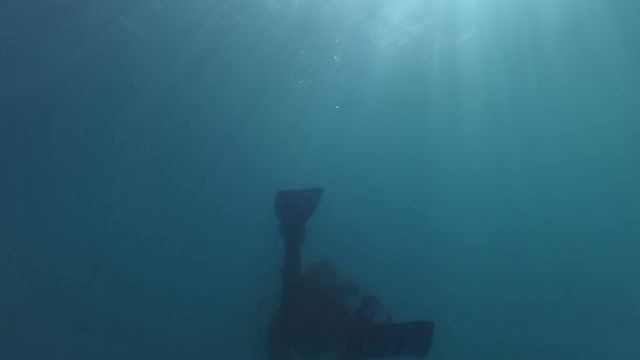Diver: (245, 179, 439, 359)
